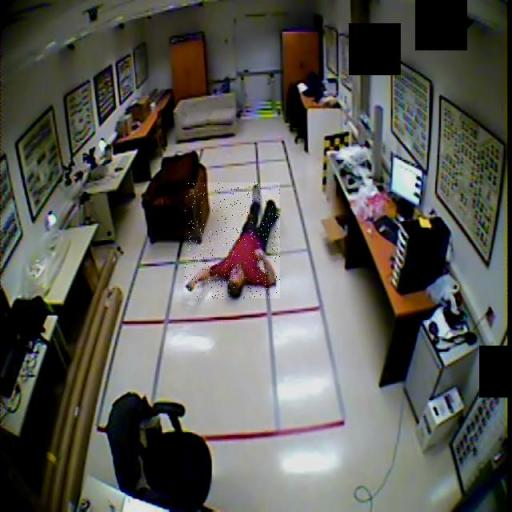Fall: (185, 183, 280, 299)
